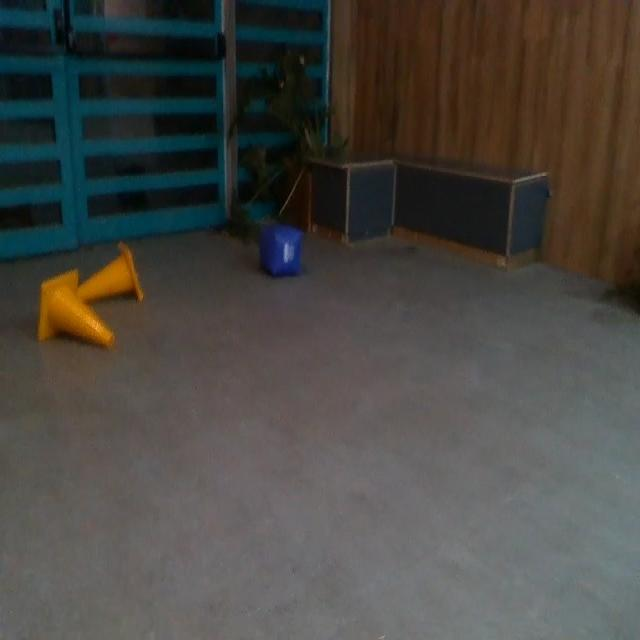cone: (37, 270, 116, 350), (67, 238, 144, 303)
cube: (262, 219, 302, 278)
